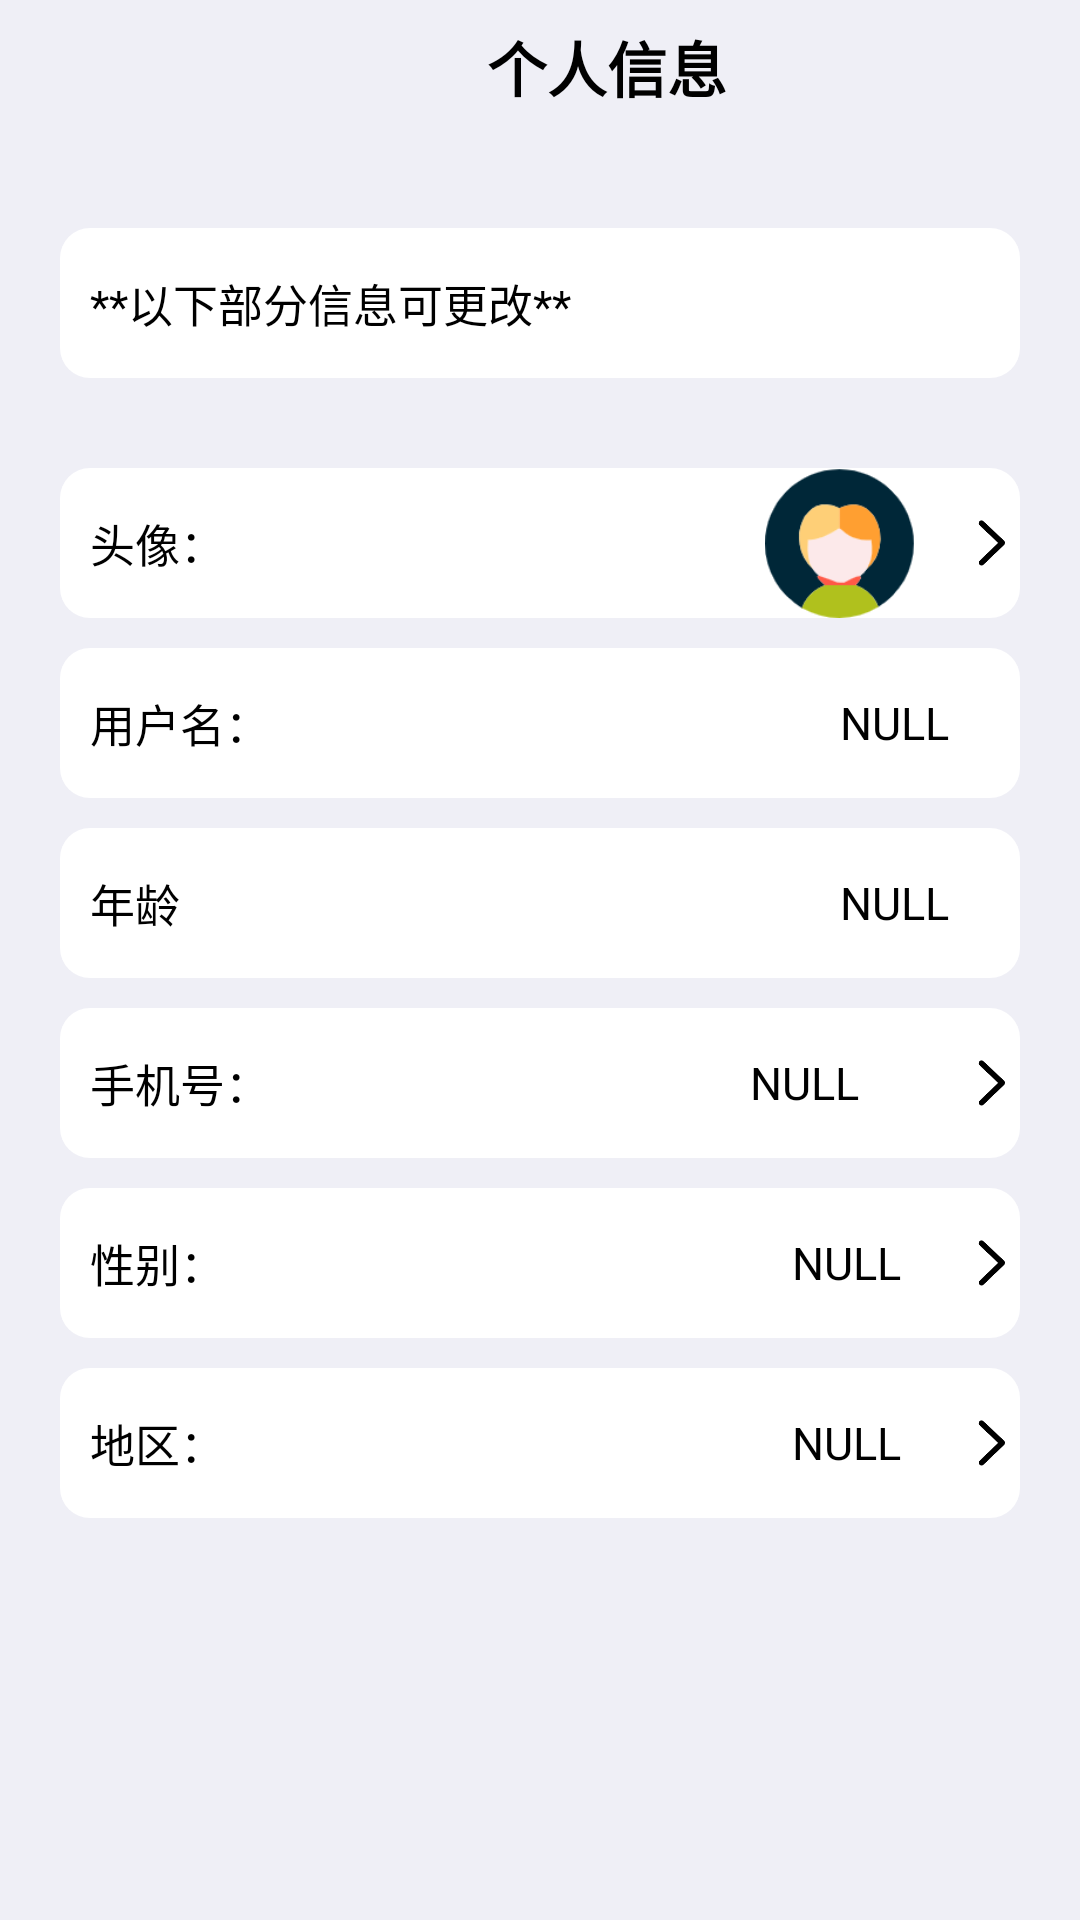

Screen size 1080*1920. Icon name, then its center in pixels as point (x, y):
right: point (991, 543), point (991, 1083), point (991, 1263), point (991, 1443)
